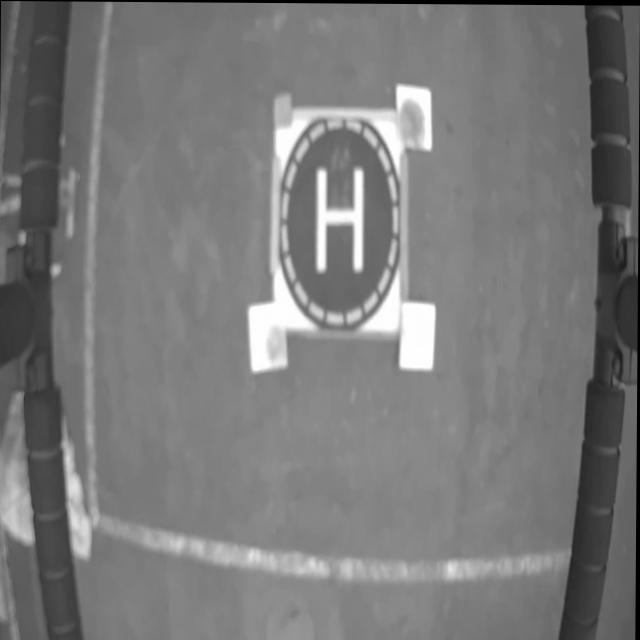Helipad: (315, 167, 364, 271)
